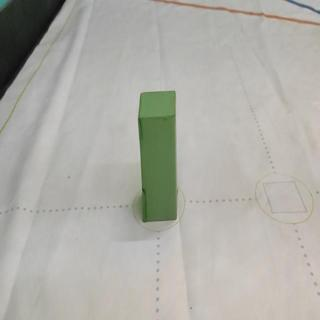greenbox: (136, 89, 178, 224)
